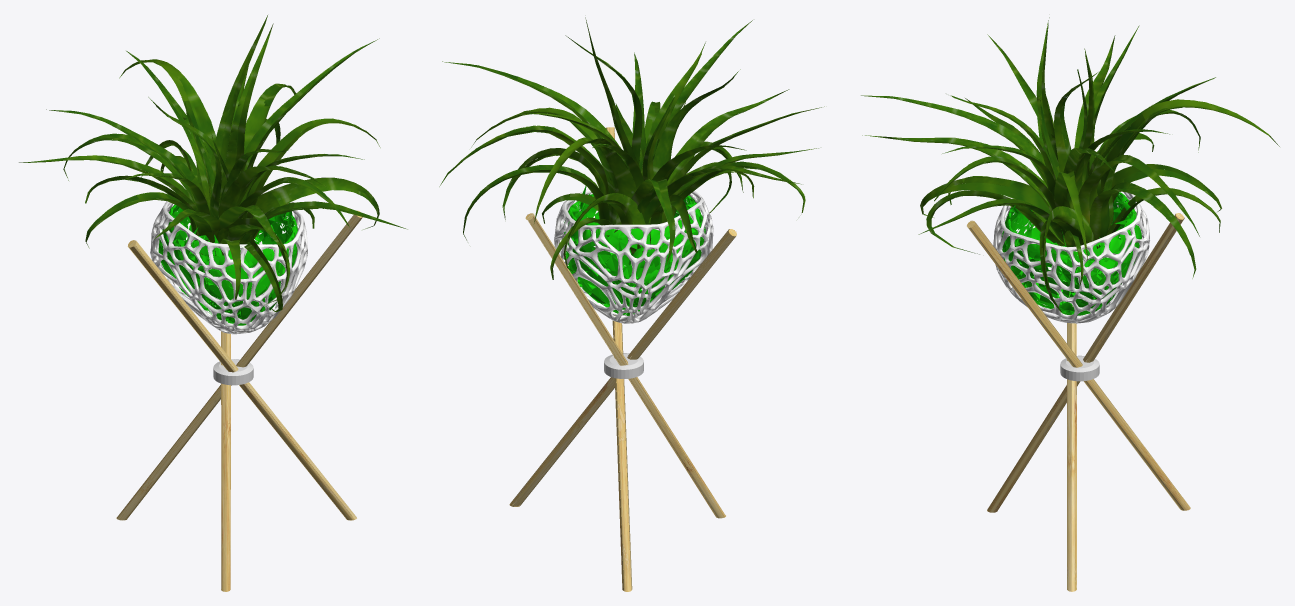
File: bambo_agave.gltf
The picture shows the model from 3 angles, left to right: view 1: azimuth 30°, elevation 25°; view 2: azimuth 150°, elevation 25°; view 3: azimuth 270°, elevation 25°; orthographic projection. The views are drawn at different scales.
Visible parts, largest first — view 1: planta join.001, BETE, planta join.001_Material.006_0.001, INTERIOR.001, EXTERIOR.002_Material_0.001, EXTERIOR.002, EXTERIOR.002_Material_0.002, Cylinder; view 2: planta join.001, BETE, INTERIOR.001, planta join.001_Material.006_0.001, EXTERIOR.002, EXTERIOR.002_Material_0.001, EXTERIOR.002_Material_0.002, Cylinder; view 3: planta join.001, BETE, INTERIOR.001, planta join.001_Material.006_0.001, EXTERIOR.002_Material_0.001, EXTERIOR.002, EXTERIOR.002_Material_0.002, Cylinder.
Part boxes in pixels (x1,y1,x2,y2): planta join.001: (19,15,407,312); BETE: (116,210,362,591); planta join.001_Material.006_0.001: (51,21,400,304); INTERIOR.001: (158,202,297,325); EXTERIOR.002_Material_0.001: (150,203,307,334); EXTERIOR.002: (150,192,306,332); EXTERIOR.002_Material_0.002: (153,201,307,334); Cylinder: (213,359,253,385); planta join.001: (439,17,824,279); BETE: (509,127,736,591); INTERIOR.001: (564,186,705,315); planta join.001_Material.006_0.001: (463,25,776,278); EXTERIOR.002: (558,186,713,323); EXTERIOR.002_Material_0.001: (554,193,713,323); EXTERIOR.002_Material_0.002: (555,192,710,323); Cylinder: (604,353,643,378); planta join.001: (861,17,1279,311); BETE: (967,213,1190,591); INTERIOR.001: (1002,192,1141,315); planta join.001_Material.006_0.001: (920,31,1219,313); EXTERIOR.002_Material_0.001: (993,192,1149,323); EXTERIOR.002: (995,179,1149,322); EXTERIOR.002_Material_0.002: (994,192,1147,323); Cylinder: (1060,355,1099,381).
Size of what is drawn, in the model's own units: 4.69 by 6.32 by 4.8.
Materials: 4 (2 with a texture image).
